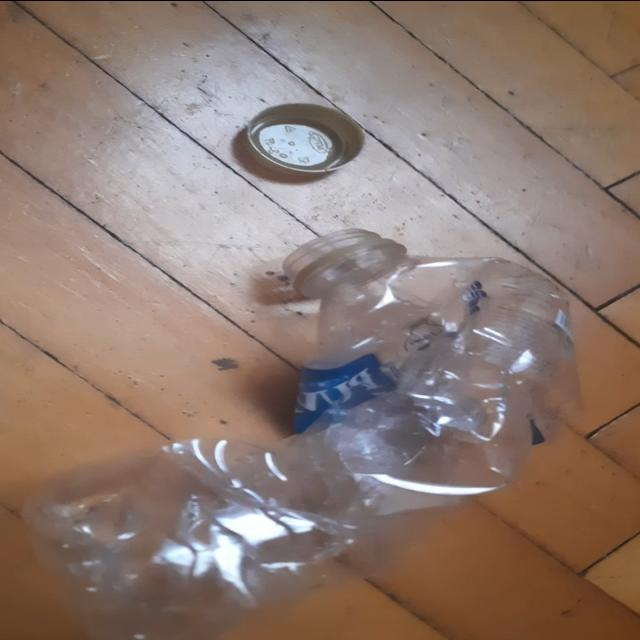Plastic: (19, 228, 577, 638)
